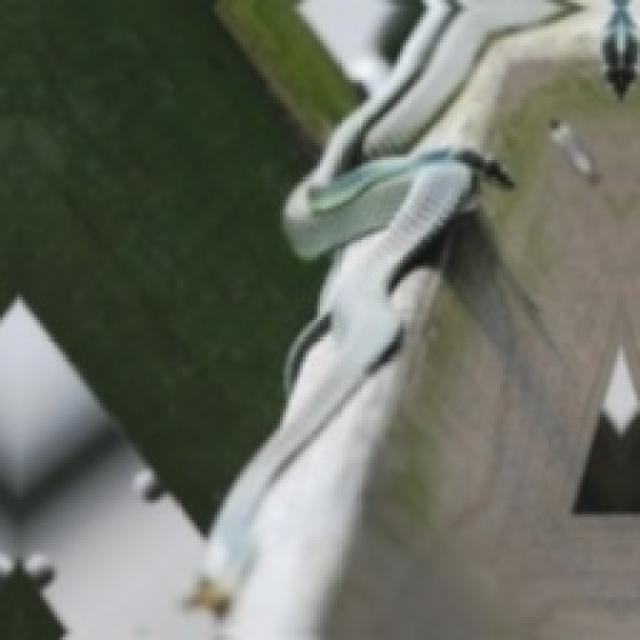paradise tree snake: (206, 149, 509, 637)
